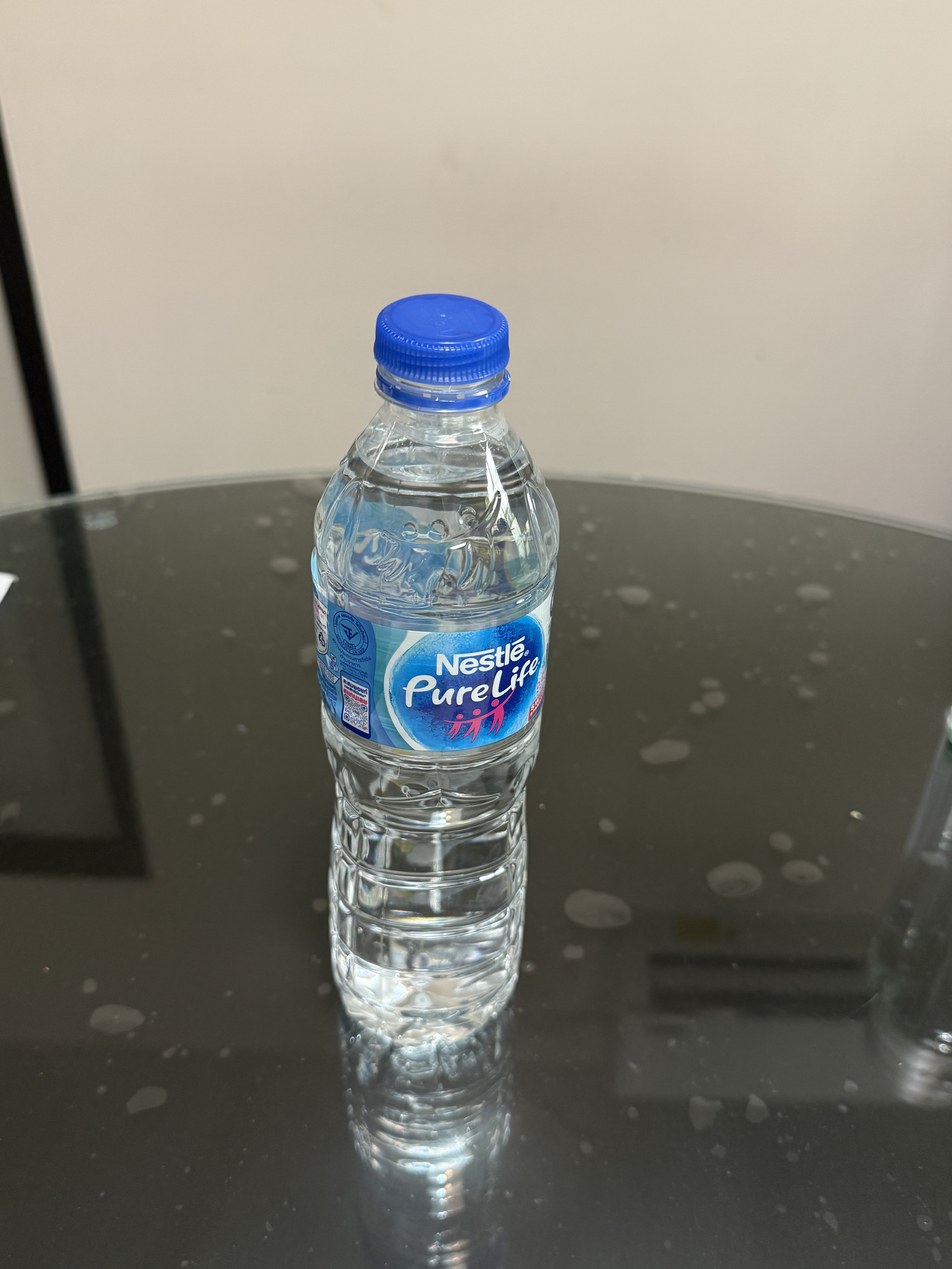half_cap: (371, 289, 515, 415)
